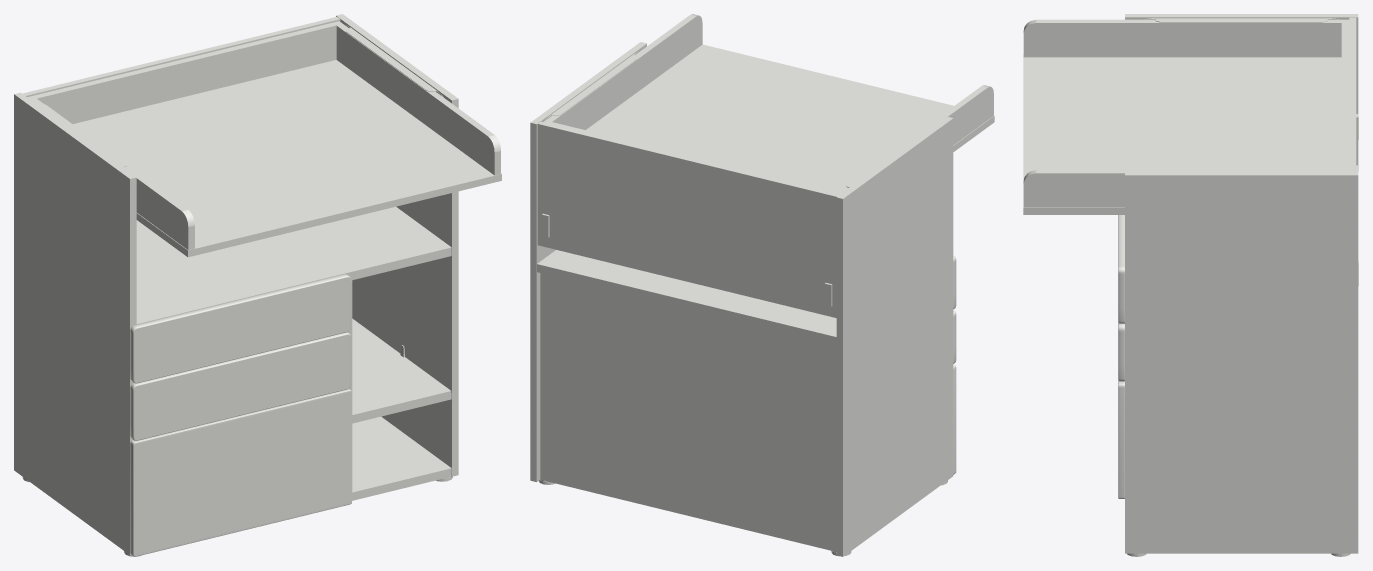
Rendered from smastad_sto_do_przewijania_29582856.glb.
3 views of the same model, side by side, from view 1: azimuth 30°, elevation 25°; view 2: azimuth 150°, elevation 25°; view 3: azimuth 270°, elevation 25° (orthographic). The views are drawn at different scales.
Visible parts, largest first — view 1: smastad_sto_do_przewijania_29582856; view 2: smastad_sto_do_przewijania_29582856; view 3: smastad_sto_do_przewijania_29582856.
Boxes of the visible parts, x1,y1,x2,y2 form: smastad_sto_do_przewijania_29582856: [14, 14, 501, 556]; smastad_sto_do_przewijania_29582856: [530, 14, 994, 556]; smastad_sto_do_przewijania_29582856: [1023, 14, 1358, 556].
Bounding box in the file's own units: 0.9002 × 0.995 × 0.7913.
Materials: 2 (2 with a texture image).
